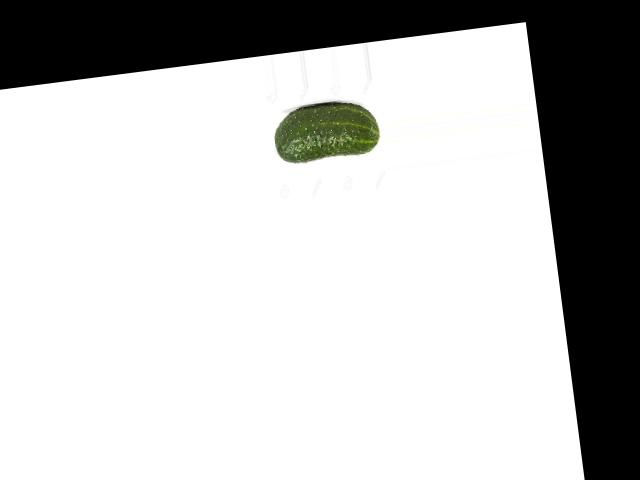cucumber: (270, 96, 381, 164)
